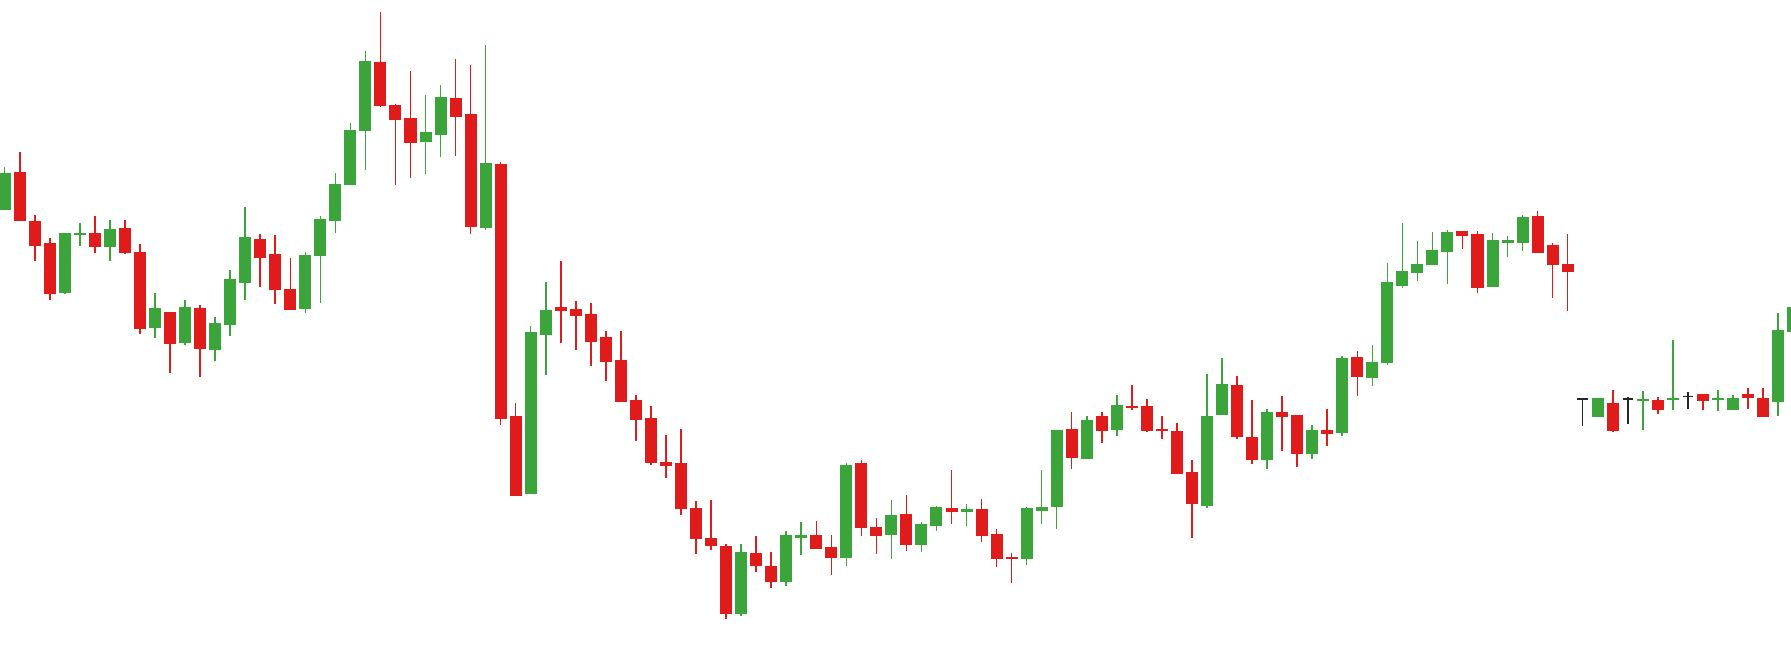buy: (881, 507, 1039, 580)
